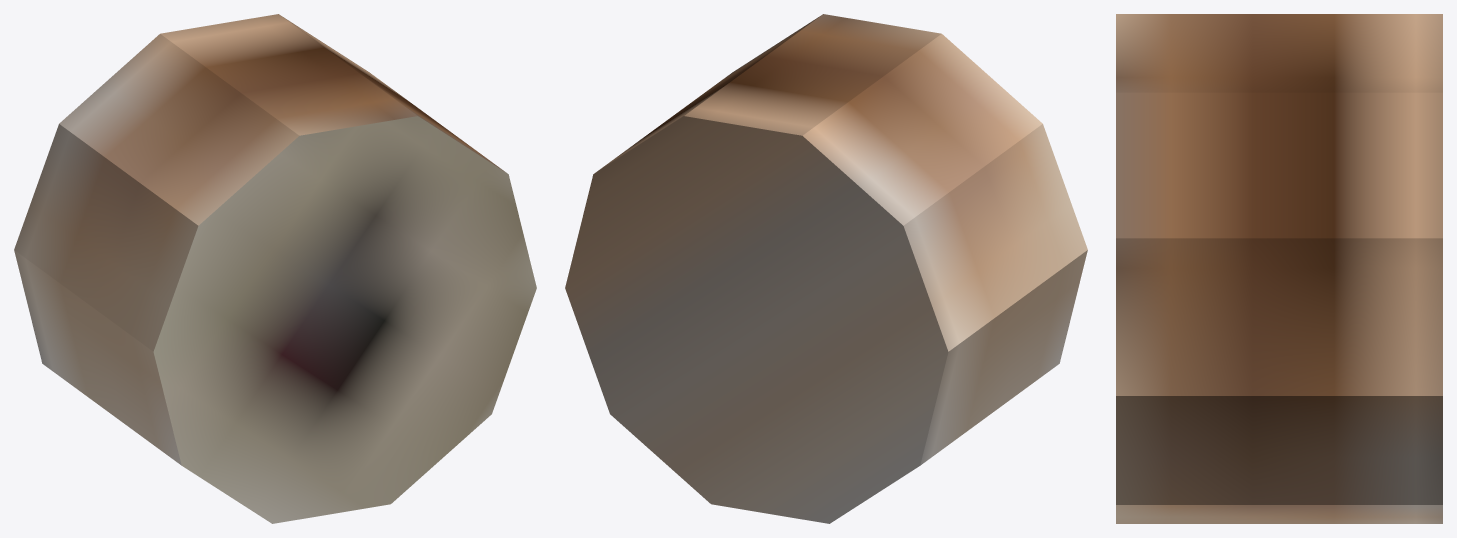
File: WHEEEEEEEEEEEEEEEL.glb
The picture shows the model from 3 angles, left to right: view 1: azimuth 30°, elevation 25°; view 2: azimuth 150°, elevation 25°; view 3: azimuth 270°, elevation 25°; orthographic projection. The views are drawn at different scales.
Parts seen in each view (by area): view 1: Cylinder; view 2: Cylinder; view 3: Cylinder.
Boxes of the visible parts, x1=… form: Cylinder: x1=14, y1=14, x2=536, y2=523; Cylinder: x1=565, y1=14, x2=1087, y2=523; Cylinder: x1=1116, y1=14, x2=1442, y2=523.
Bounding box in the file's own units: 0.2817 × 0.2744 × 0.1775.
Materials: 1 (1 with a texture image).
